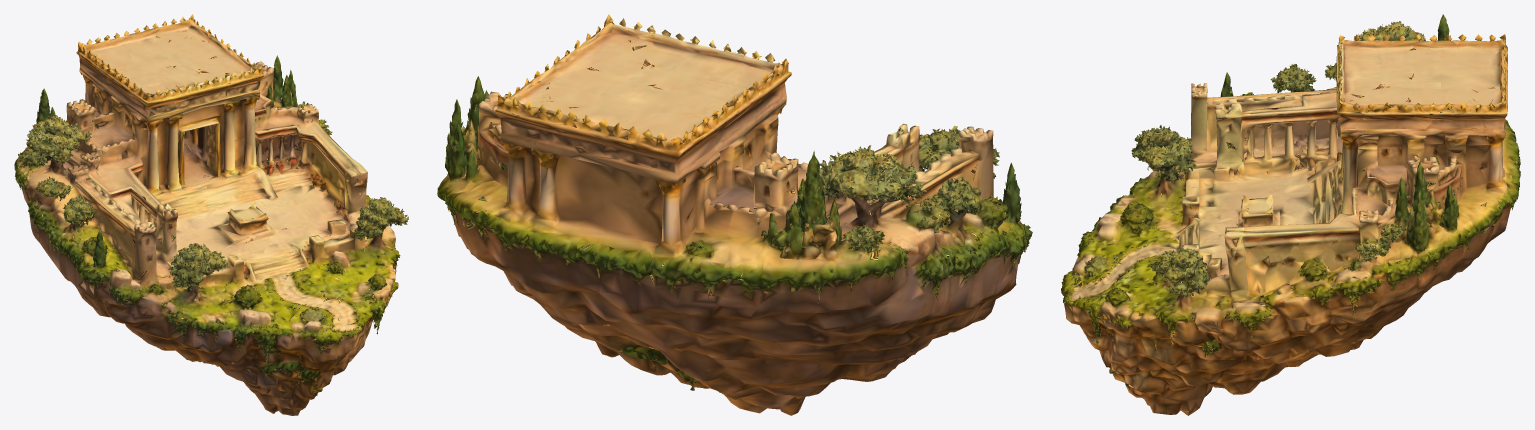
The model's file is week1.glb.
3 views of the same model, side by side, from view 1: azimuth 30°, elevation 25°; view 2: azimuth 150°, elevation 25°; view 3: azimuth 270°, elevation 25° (orthographic). The views are drawn at different scales.
Visible parts, largest first — view 1: tripo_node_278bd973-0f81-4bc3-91a5-7950c11167a6; view 2: tripo_node_278bd973-0f81-4bc3-91a5-7950c11167a6; view 3: tripo_node_278bd973-0f81-4bc3-91a5-7950c11167a6.
Boxes of the visible parts, x1,y1,x2,y2 form: tripo_node_278bd973-0f81-4bc3-91a5-7950c11167a6: [14, 14, 408, 415]; tripo_node_278bd973-0f81-4bc3-91a5-7950c11167a6: [437, 14, 1032, 415]; tripo_node_278bd973-0f81-4bc3-91a5-7950c11167a6: [1061, 14, 1520, 415].
Bounding box in the file's own units: 0.9242 × 0.8278 × 0.9993.
Materials: 1 (1 with a texture image).
